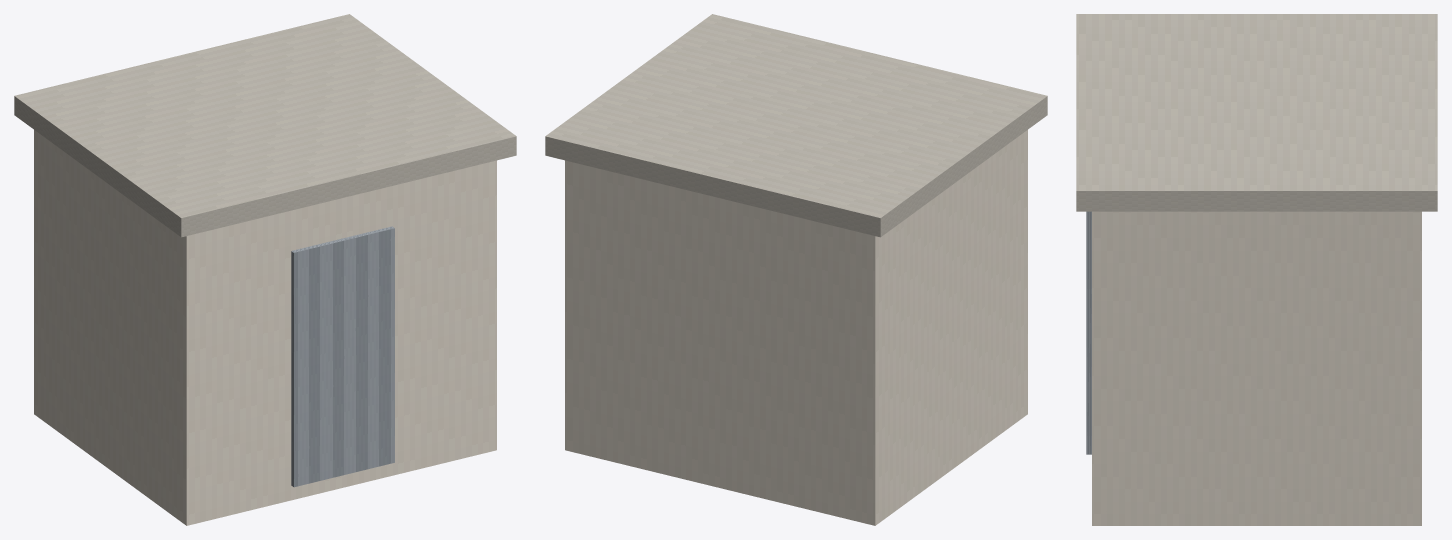
The model's file is rooftop-penthouse-lod1.glb.
3 views of the same model, side by side, from view 1: azimuth 30°, elevation 25°; view 2: azimuth 150°, elevation 25°; view 3: azimuth 270°, elevation 25° (orthographic). The views are drawn at different scales.
Parts seen in each view (by area): view 1: rooftop-penthouse-lod1; view 2: rooftop-penthouse-lod1; view 3: rooftop-penthouse-lod1.
Boxes of the visible parts, left/top/right/bottom form: rooftop-penthouse-lod1: left=14, top=14, right=516, bottom=525; rooftop-penthouse-lod1: left=545, top=14, right=1047, bottom=525; rooftop-penthouse-lod1: left=1076, top=14, right=1437, bottom=525.
Bounding box in the file's own units: 2.92 × 2.63 × 2.52.
1 material, 1 textured.
